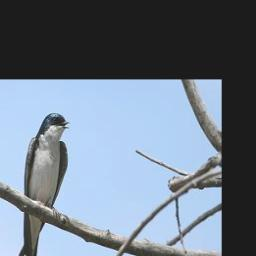Swallow: (18, 112, 71, 256)
